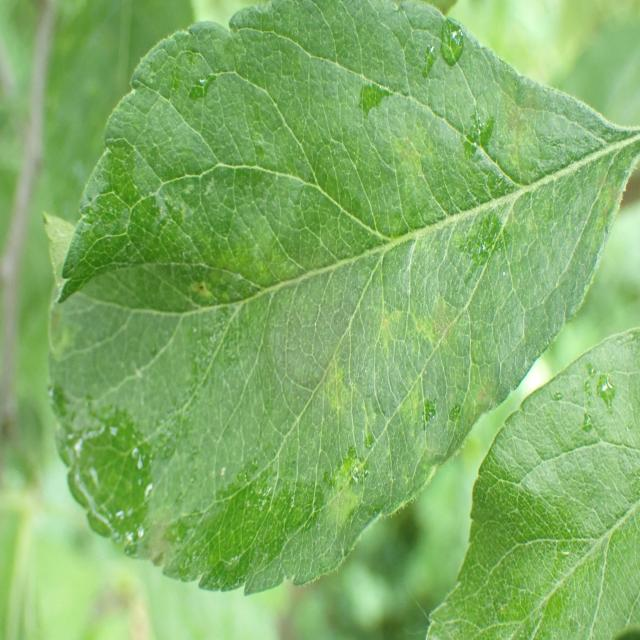scab: (31, 100, 597, 574)
